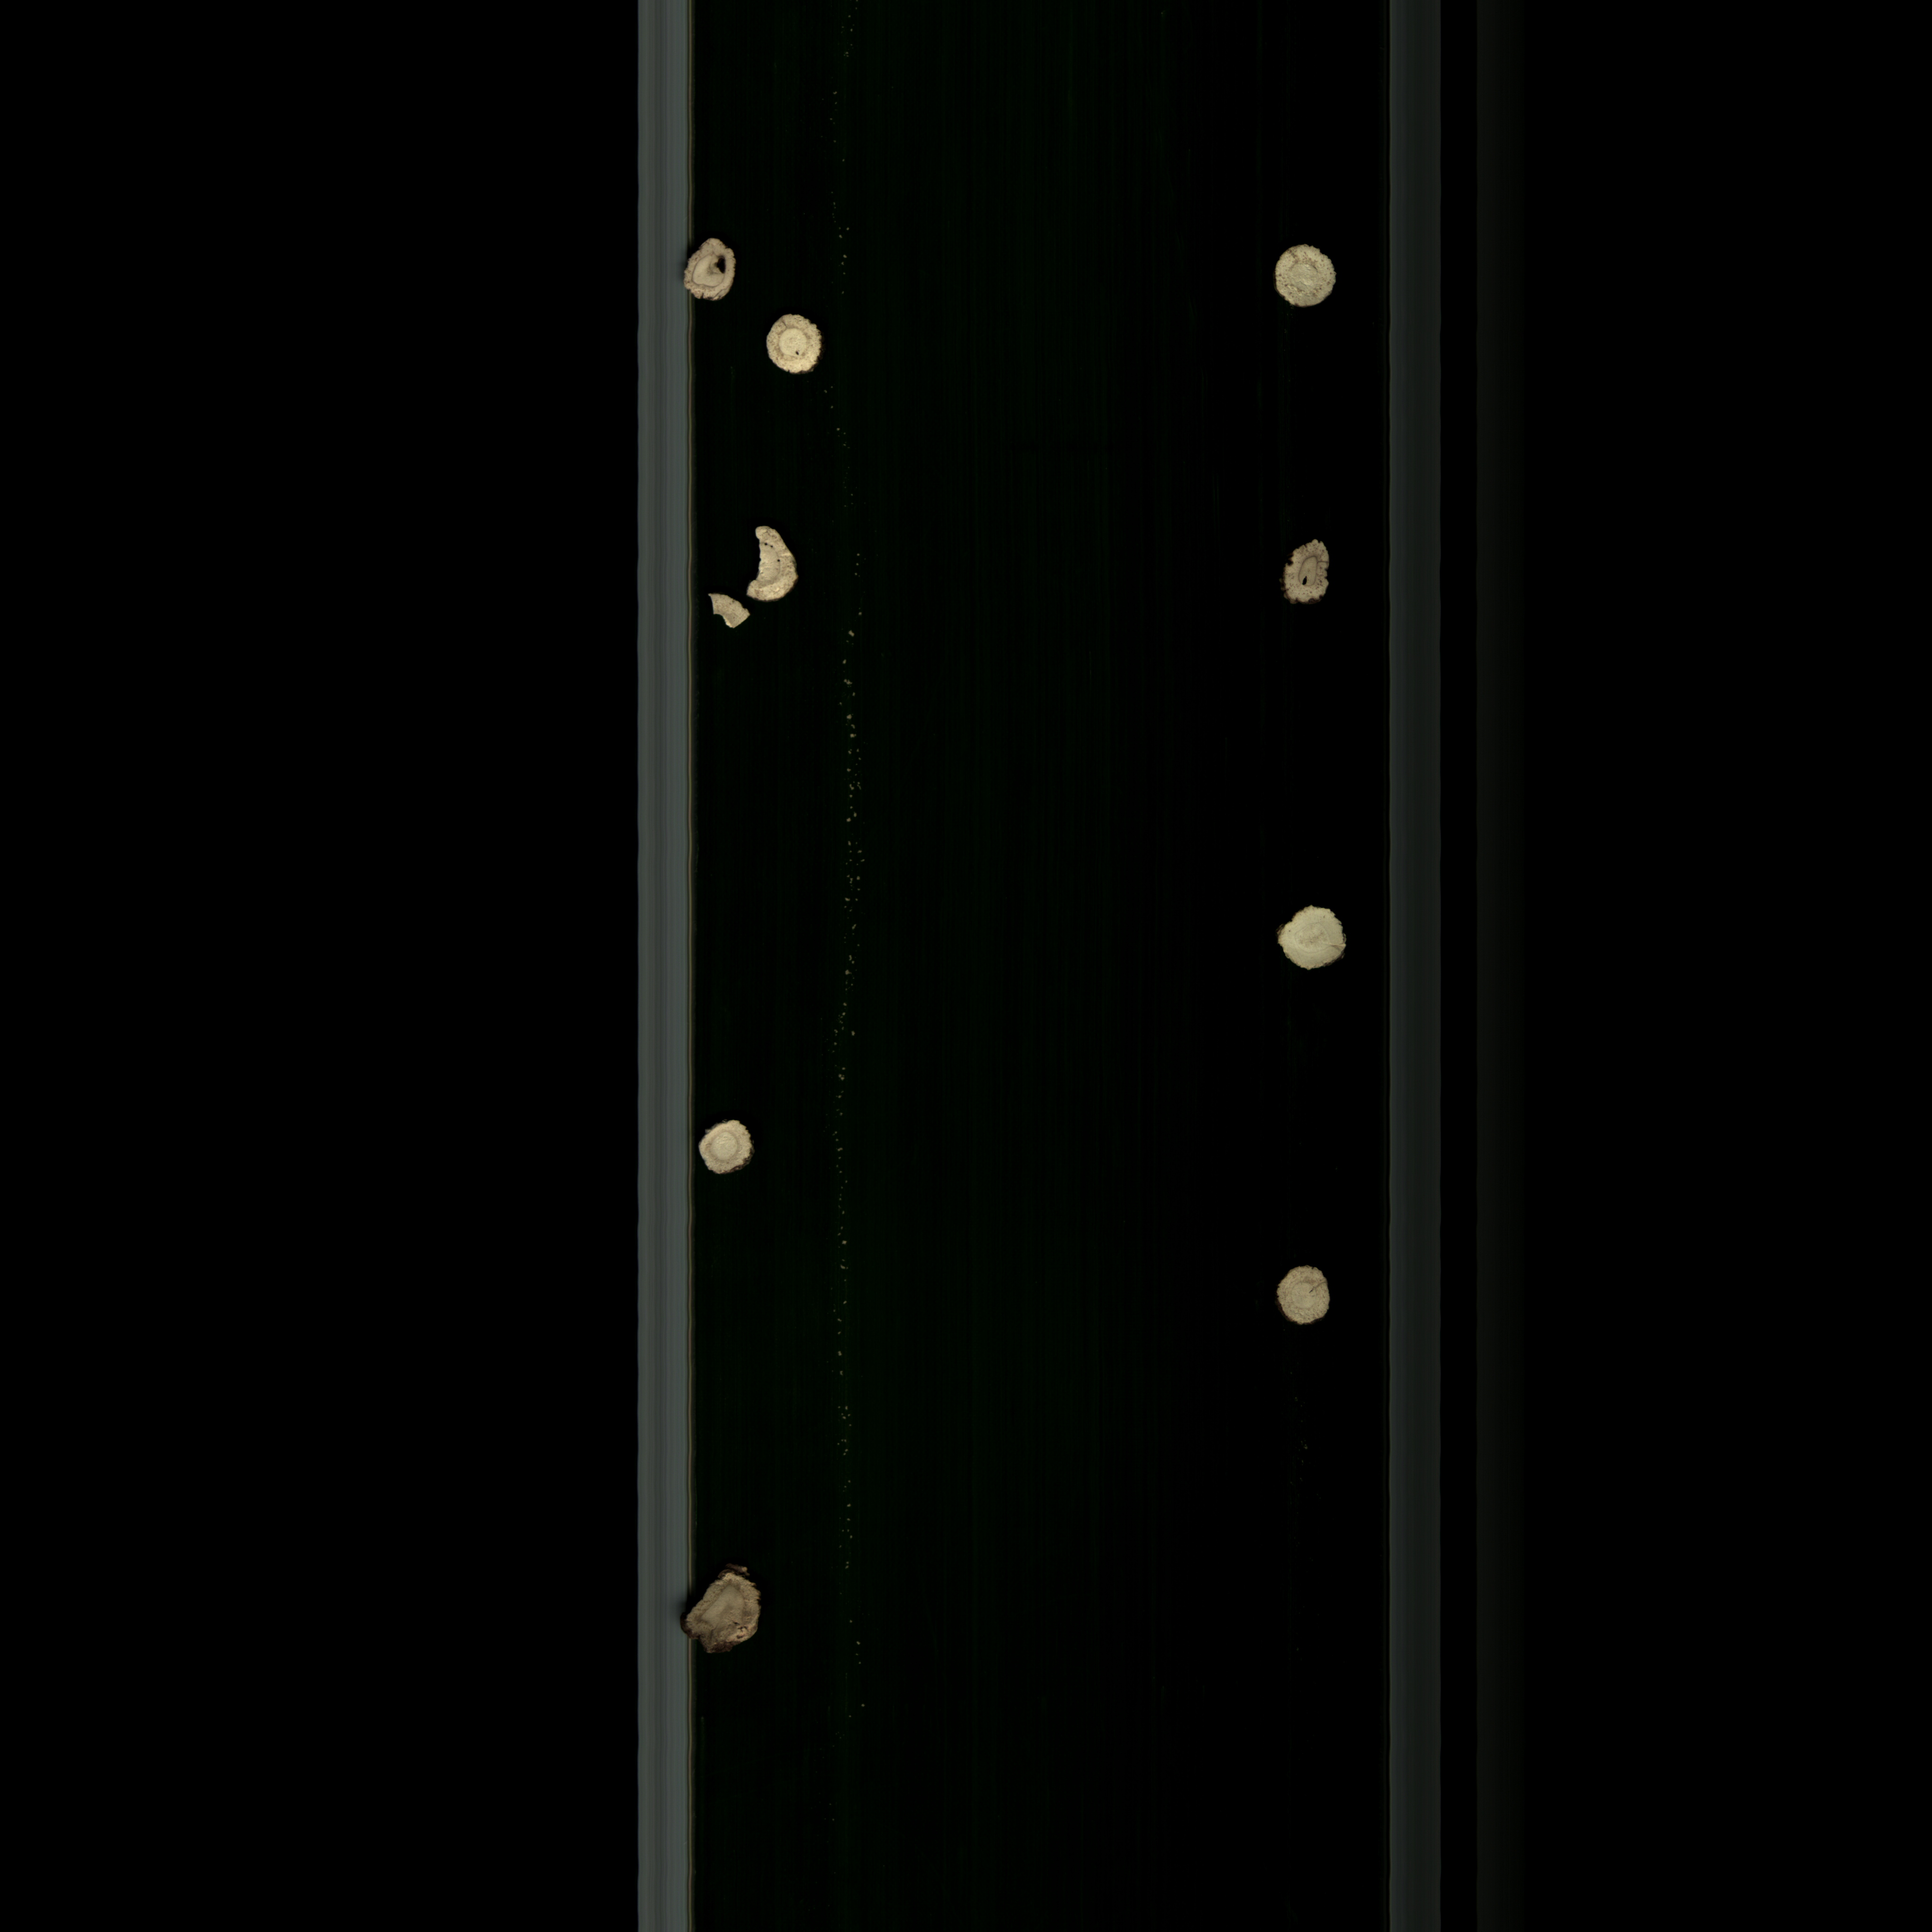debris: (731, 517, 809, 605)
distortion: (1277, 527, 1345, 616), (695, 582, 764, 648)
hole: (679, 232, 747, 310)
moldy: (679, 1557, 773, 1665), (1256, 239, 1346, 318), (759, 304, 830, 387), (695, 1113, 766, 1184)
